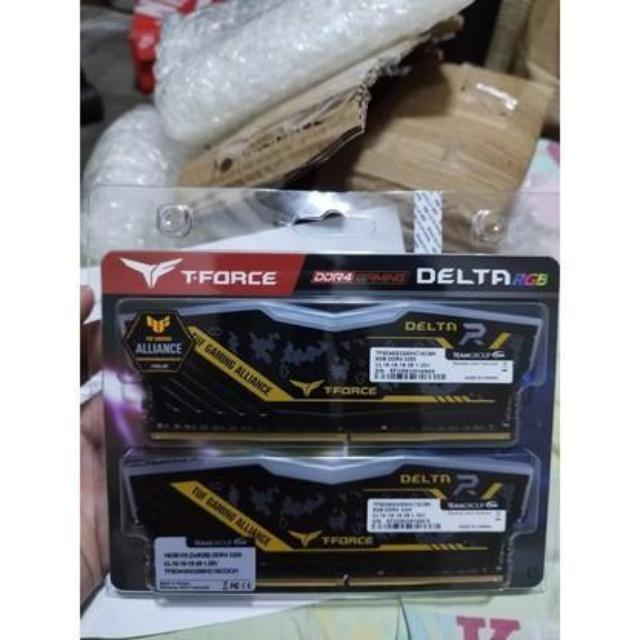RAM: (121, 311, 524, 449), (121, 464, 521, 592)
